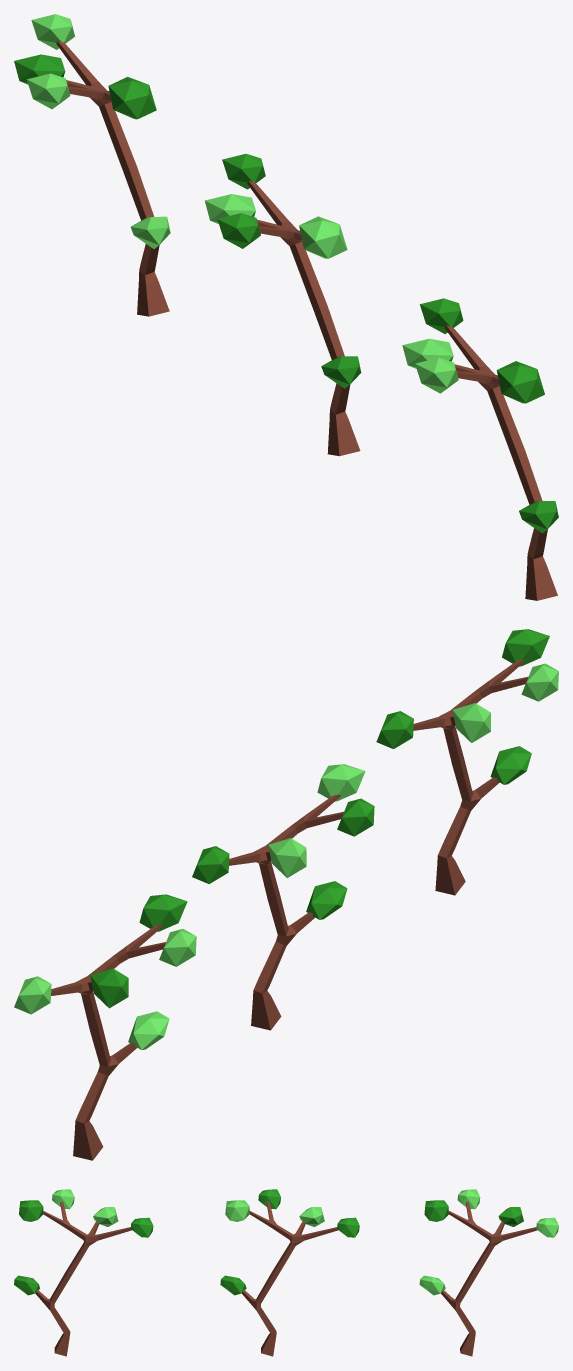
Rendered from ArvoreMaori.fbx.
3 renders of one model, top to bottom at view 1: azimuth 30°, elevation 25°; view 2: azimuth 150°, elevation 25°; view 3: azimuth 270°, elevation 25°, orthographic. The views are drawn at different scales.
Visible parts, largest first — view 1: Icosphere.016, Icosphere.011, Icosphere.006, tronco.001, tronco.002, tronco.003; view 2: Icosphere.016, Icosphere.011, Icosphere.006, tronco.001, tronco.002, tronco.003; view 3: Icosphere.006, Icosphere.011, Icosphere.016, tronco.001, tronco.002, tronco.003.
Boxes of the visible parts, x1,y1,x2,y2 form: Icosphere.016: (14, 14, 170, 248); Icosphere.011: (205, 153, 361, 388); Icosphere.006: (402, 298, 558, 533); tronco.001: (444, 325, 557, 600); tronco.002: (247, 180, 360, 456); tronco.003: (56, 41, 169, 316); Icosphere.016: (14, 894, 196, 1049); Icosphere.011: (192, 764, 374, 919); Icosphere.006: (376, 629, 558, 784); tronco.001: (413, 659, 528, 895); tronco.002: (229, 794, 343, 1030); tronco.003: (51, 924, 165, 1160); Icosphere.006: (14, 1189, 153, 1295); Icosphere.011: (220, 1189, 359, 1295); Icosphere.016: (419, 1189, 558, 1295); tronco.001: (35, 1201, 131, 1356); tronco.002: (241, 1201, 338, 1356); tronco.003: (441, 1201, 537, 1356).
Bounding box in the file's own units: 200 × 401 × 1409.
